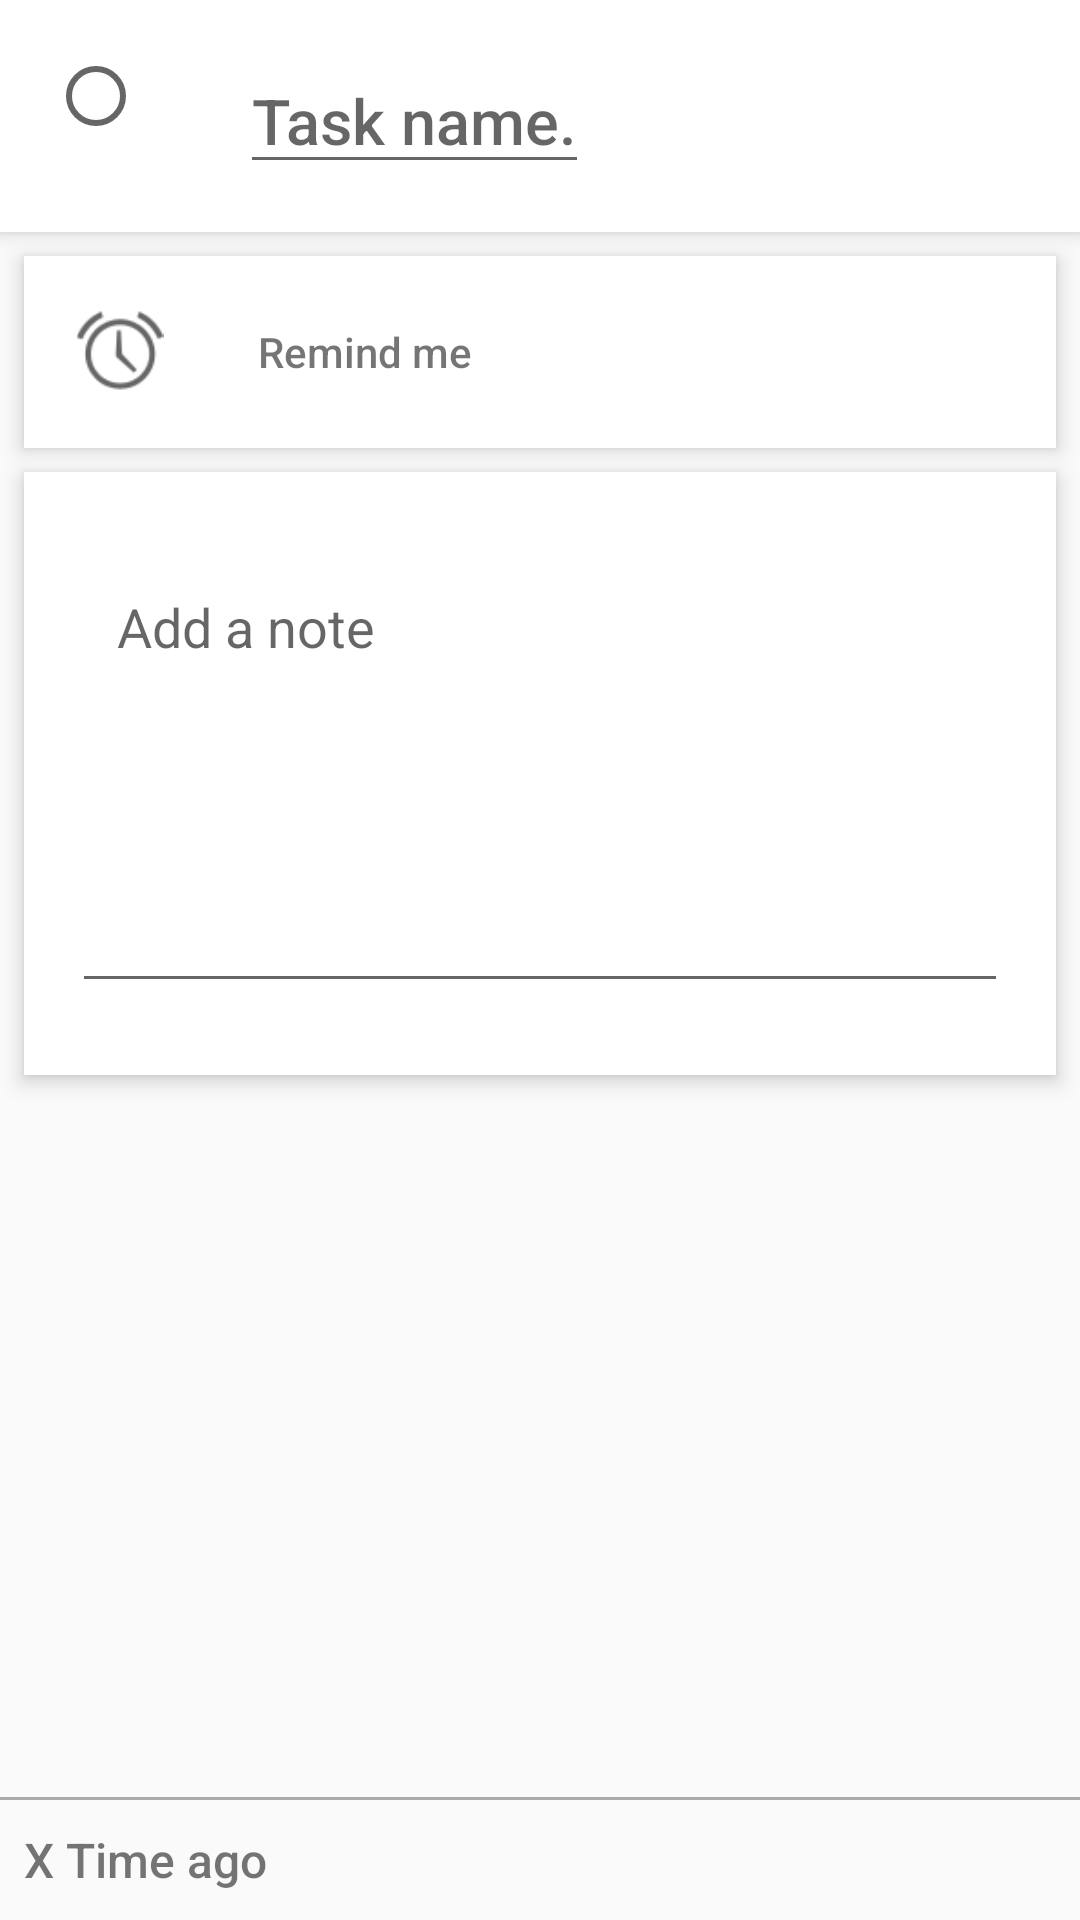

Locate icon controls on the screen. Image size 1080*1920, boxes as [x1=x1, y1=y1, x2=x2, y2=y2].
Alarm Clock Image: [x1=77, y1=311, x2=164, y2=390]
